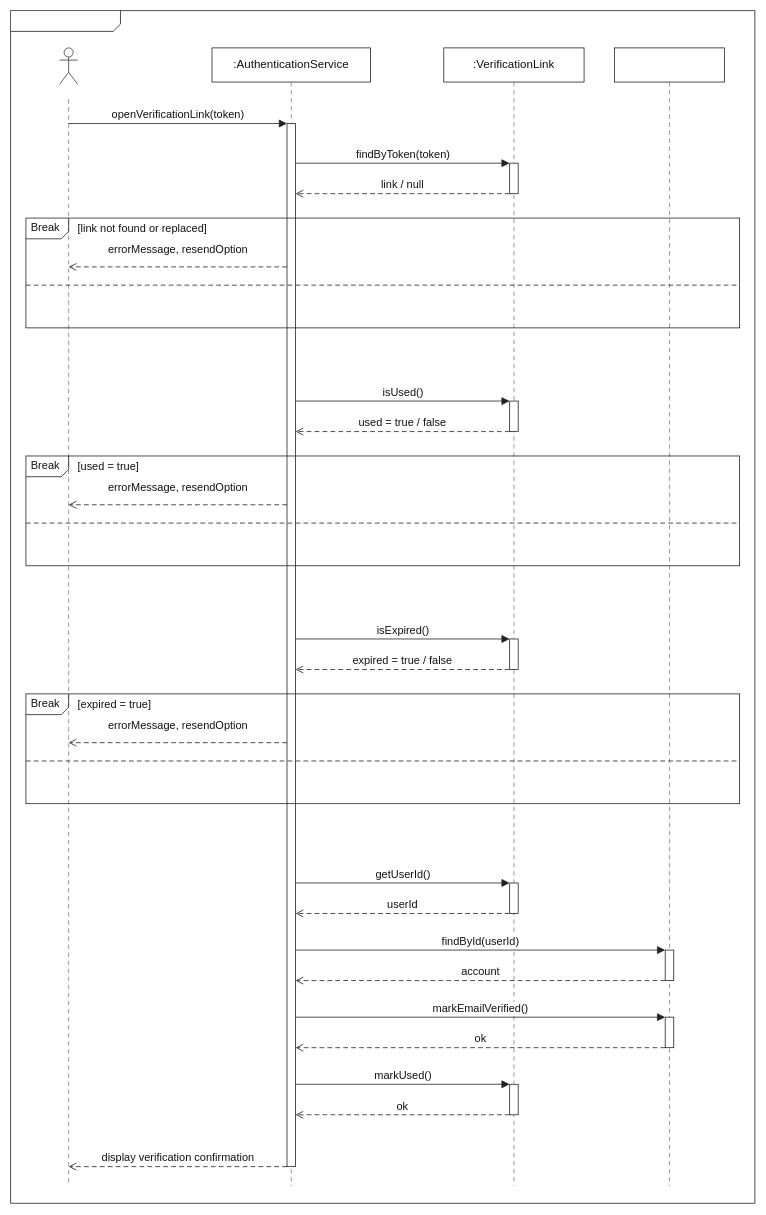
Some shapes in this 766 by 1215 pixel diagram are drawn without their labels. The shapes that lost their labels are listed below. From the top down, each one's centre as x and y in pixels, then its label:
At point (65, 20): "Verify Email".
At point (68, 65): "User".
At point (669, 64): ":Account".
